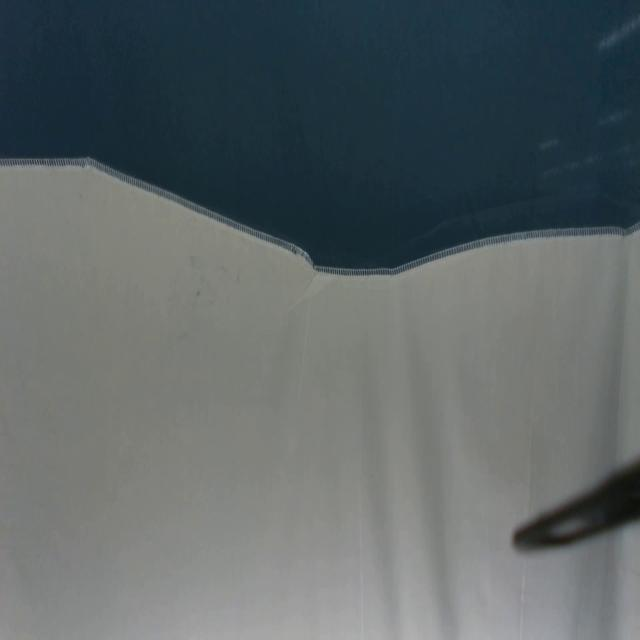crease: (356, 434, 366, 640), (517, 551, 528, 638)
